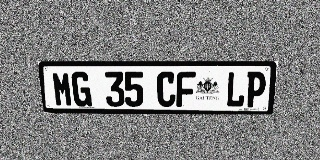3: (105, 72, 125, 107)
5: (124, 72, 144, 107)
C: (157, 72, 176, 107)
F: (176, 72, 196, 107)
G: (71, 72, 92, 107)
L: (225, 72, 247, 107)
M: (51, 72, 73, 106)
P: (245, 72, 267, 107)
